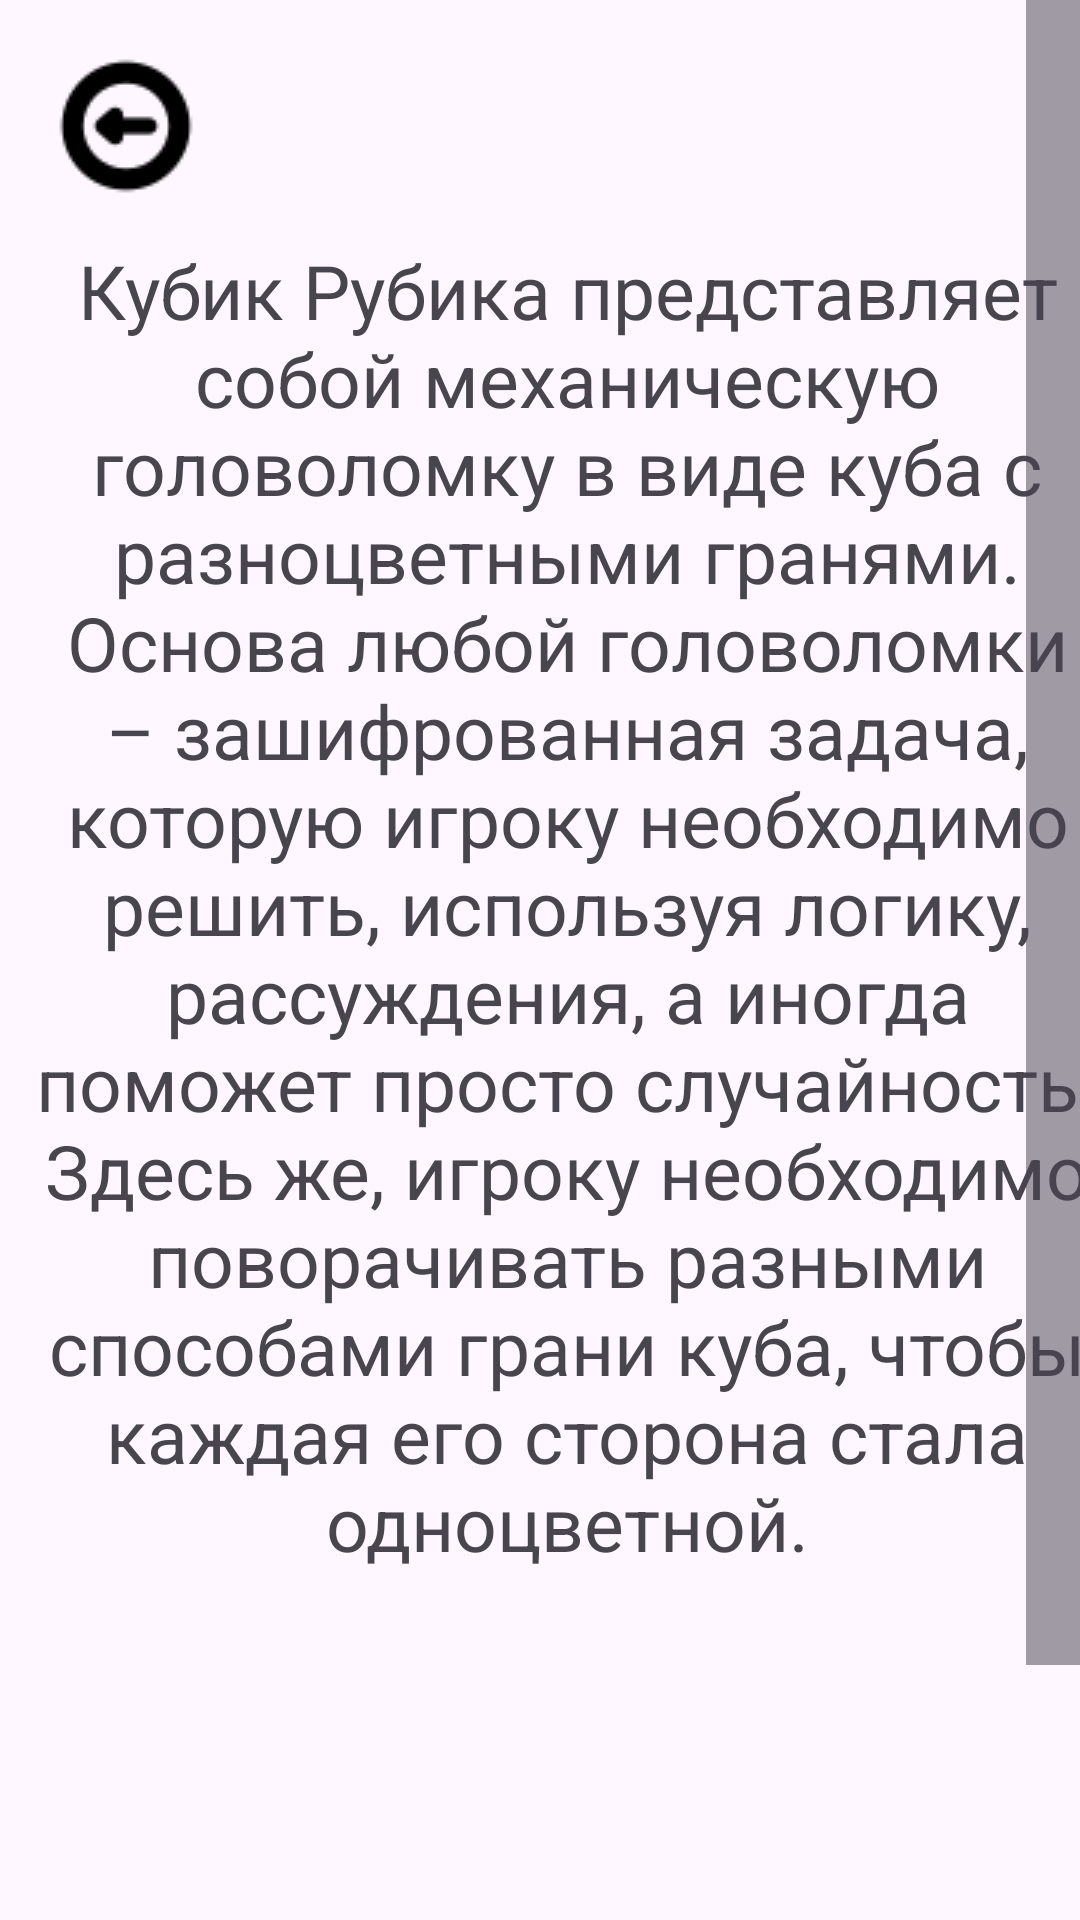

Where icons sit on this 1080*1920 app screen, as bbox=(x1, y1, x2, y2):
back: bbox=(59, 59, 193, 193)
